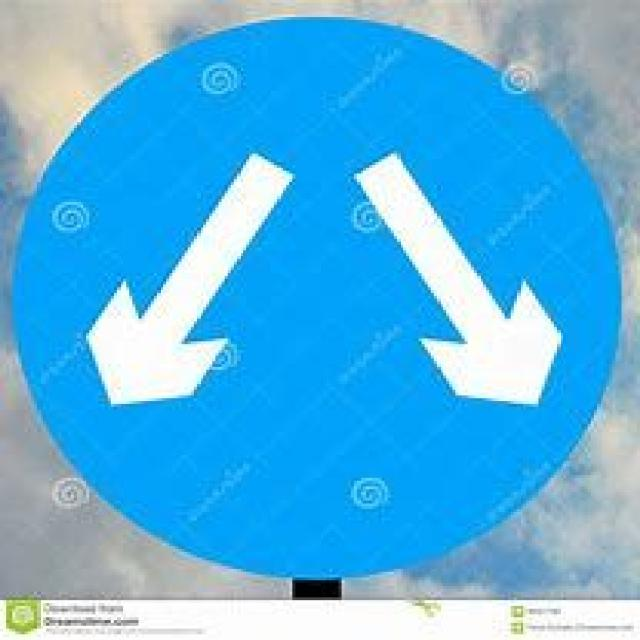PASS_EITHER_SIDE: (14, 18, 626, 576)
